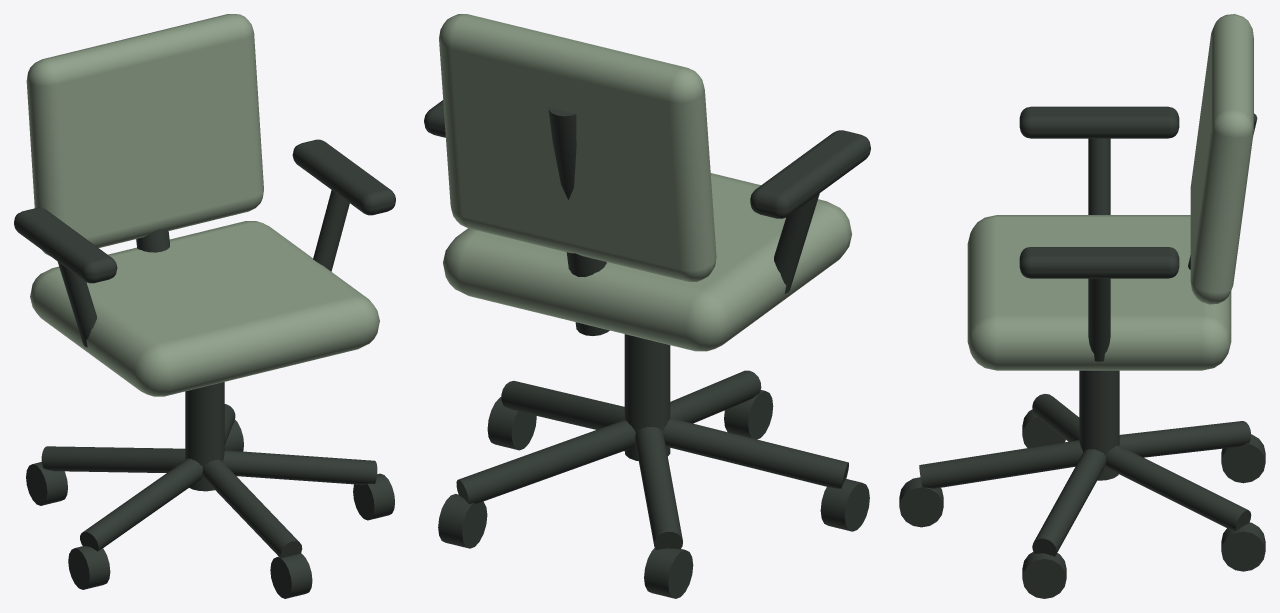
Rendered from task-chair.glb.
3 renders of one model, left to right at view 1: azimuth 30°, elevation 25°; view 2: azimuth 150°, elevation 25°; view 3: azimuth 270°, elevation 25°, orthographic. The views are drawn at different scales.
Parts seen in each view (by area): view 1: task-chair, seat; view 2: task-chair, seat; view 3: task-chair, seat.
Boxes of the visible parts, x1,y1,x2,y2 form: task-chair: (14, 14, 395, 598); seat: (30, 221, 379, 396); task-chair: (424, 14, 870, 598); seat: (443, 173, 851, 351); task-chair: (899, 14, 1265, 598); seat: (967, 215, 1231, 370).
Size of the model in its own units: 0.605 by 0.8262 by 0.5966.
